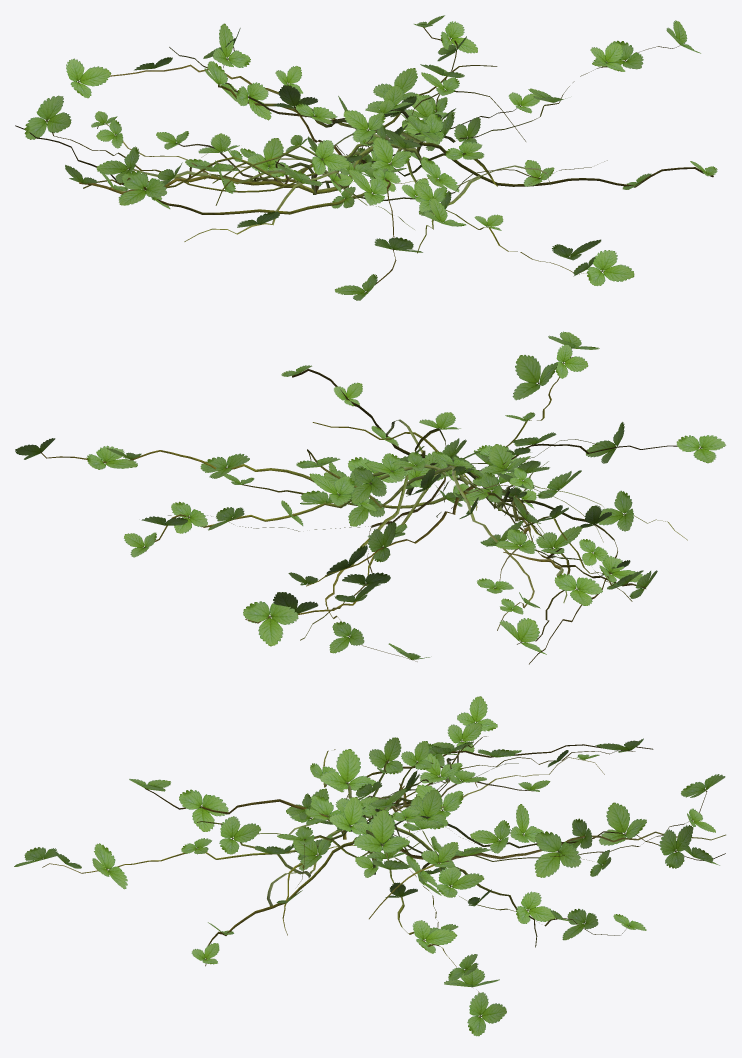
The model's file is strawberryPlant1_lod0.fbx.
The picture shows the model from 3 angles, top to bottom: view 1: azimuth 30°, elevation 25°; view 2: azimuth 150°, elevation 25°; view 3: azimuth 270°, elevation 25°; orthographic projection. The views are drawn at different scales.
Visible parts, largest first — view 1: strawberryPlant1_lod0; view 2: strawberryPlant1_lod0; view 3: strawberryPlant1_lod0.
Part boxes in pixels (x1,y1,x2,y2): strawberryPlant1_lod0: [15, 15, 717, 300]; strawberryPlant1_lod0: [15, 331, 725, 664]; strawberryPlant1_lod0: [14, 696, 725, 1036].
Bounding box in the file's own units: 140 × 16.18 × 139.
